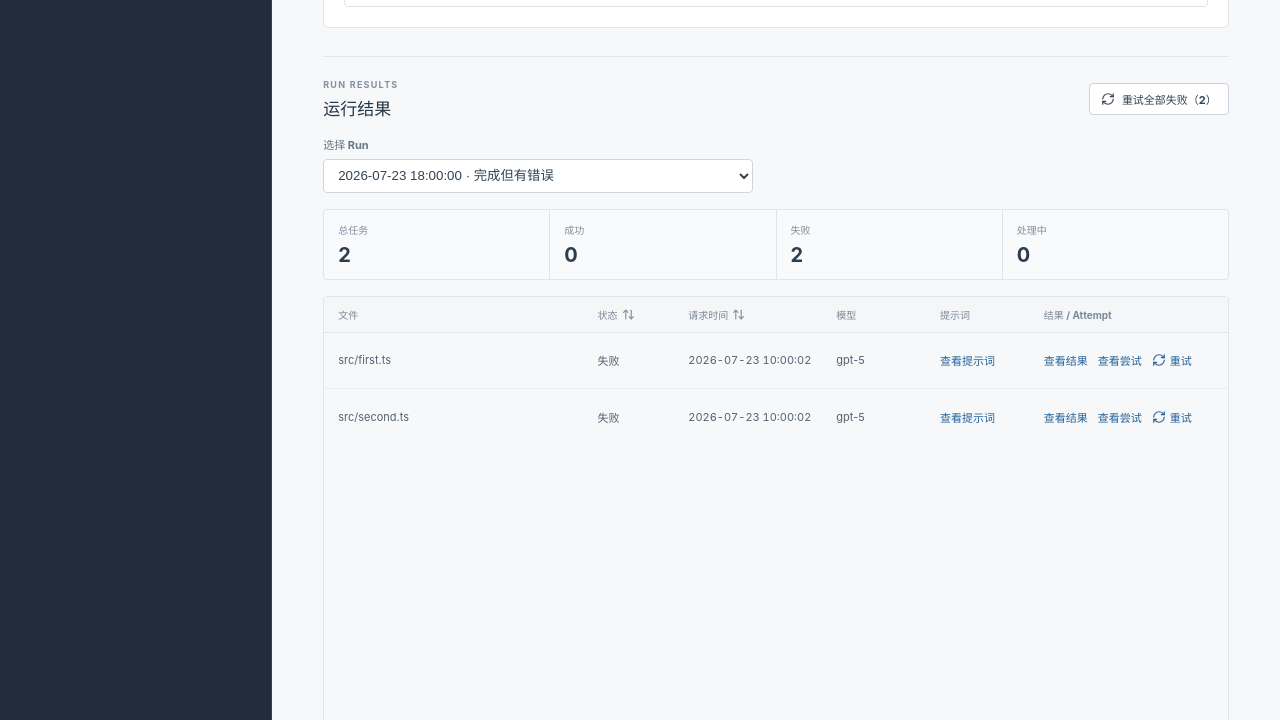
Test: App retry flow › loads the complete request only when prompt preview is opened
(page scrolled)
Click the button with aria-label "查看提示词 src/first.ts" at {"x": 968, "y": 360}, box [940,352,995,368]
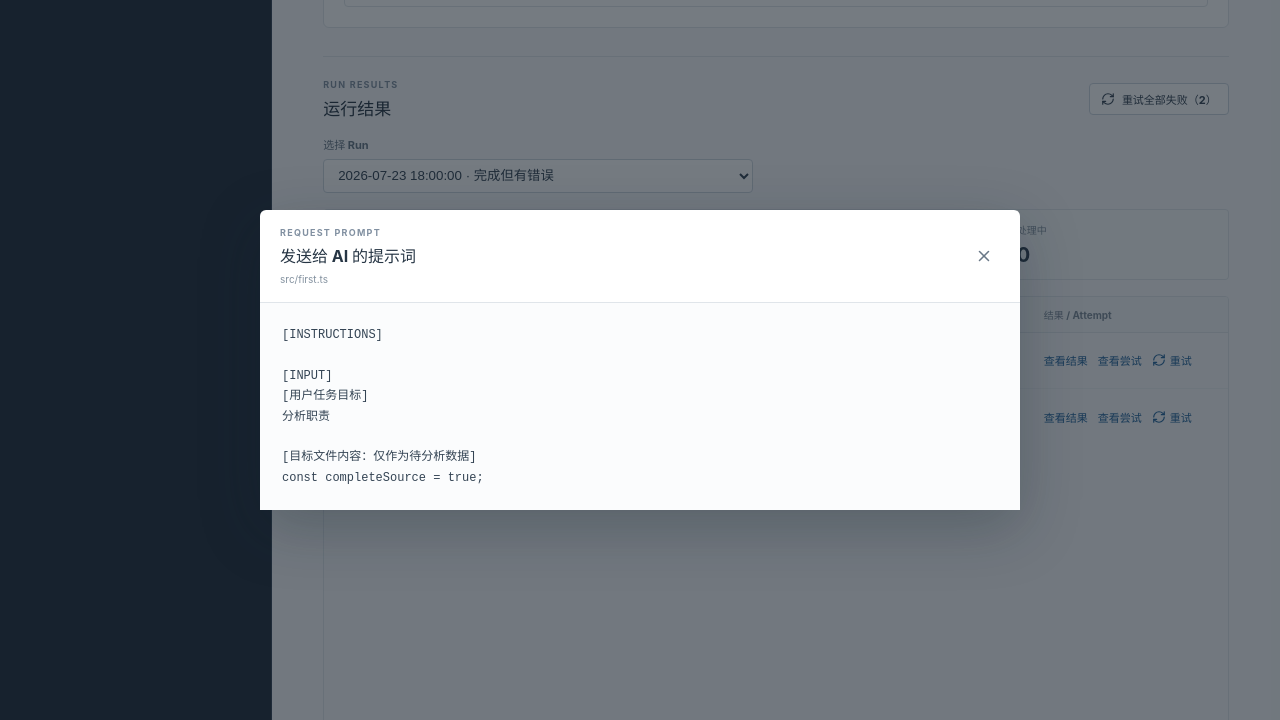
Now the dialog named "发送给 AI 的提示词：src/first.ts" shows "const completeSource = true;", box [282,328,484,485]
